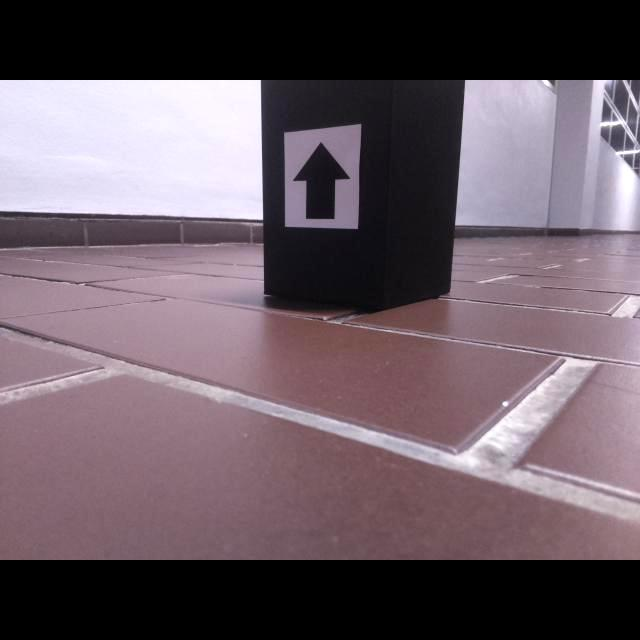UP: (291, 141, 351, 220)
